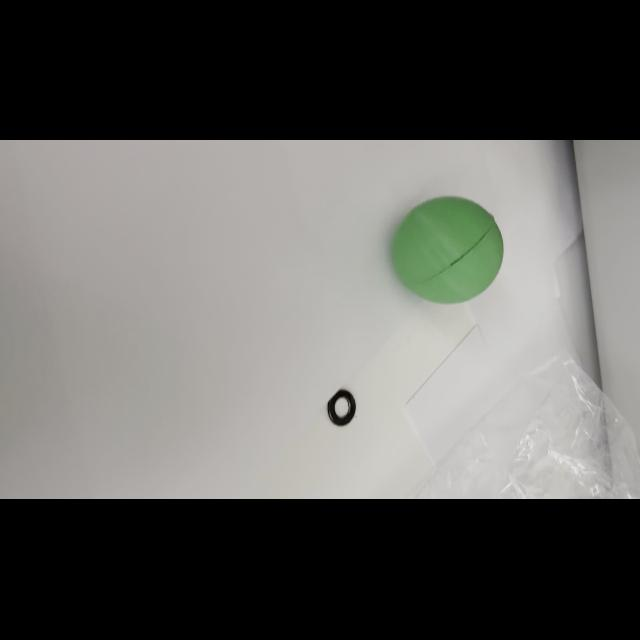objects: (388, 192, 508, 308)
